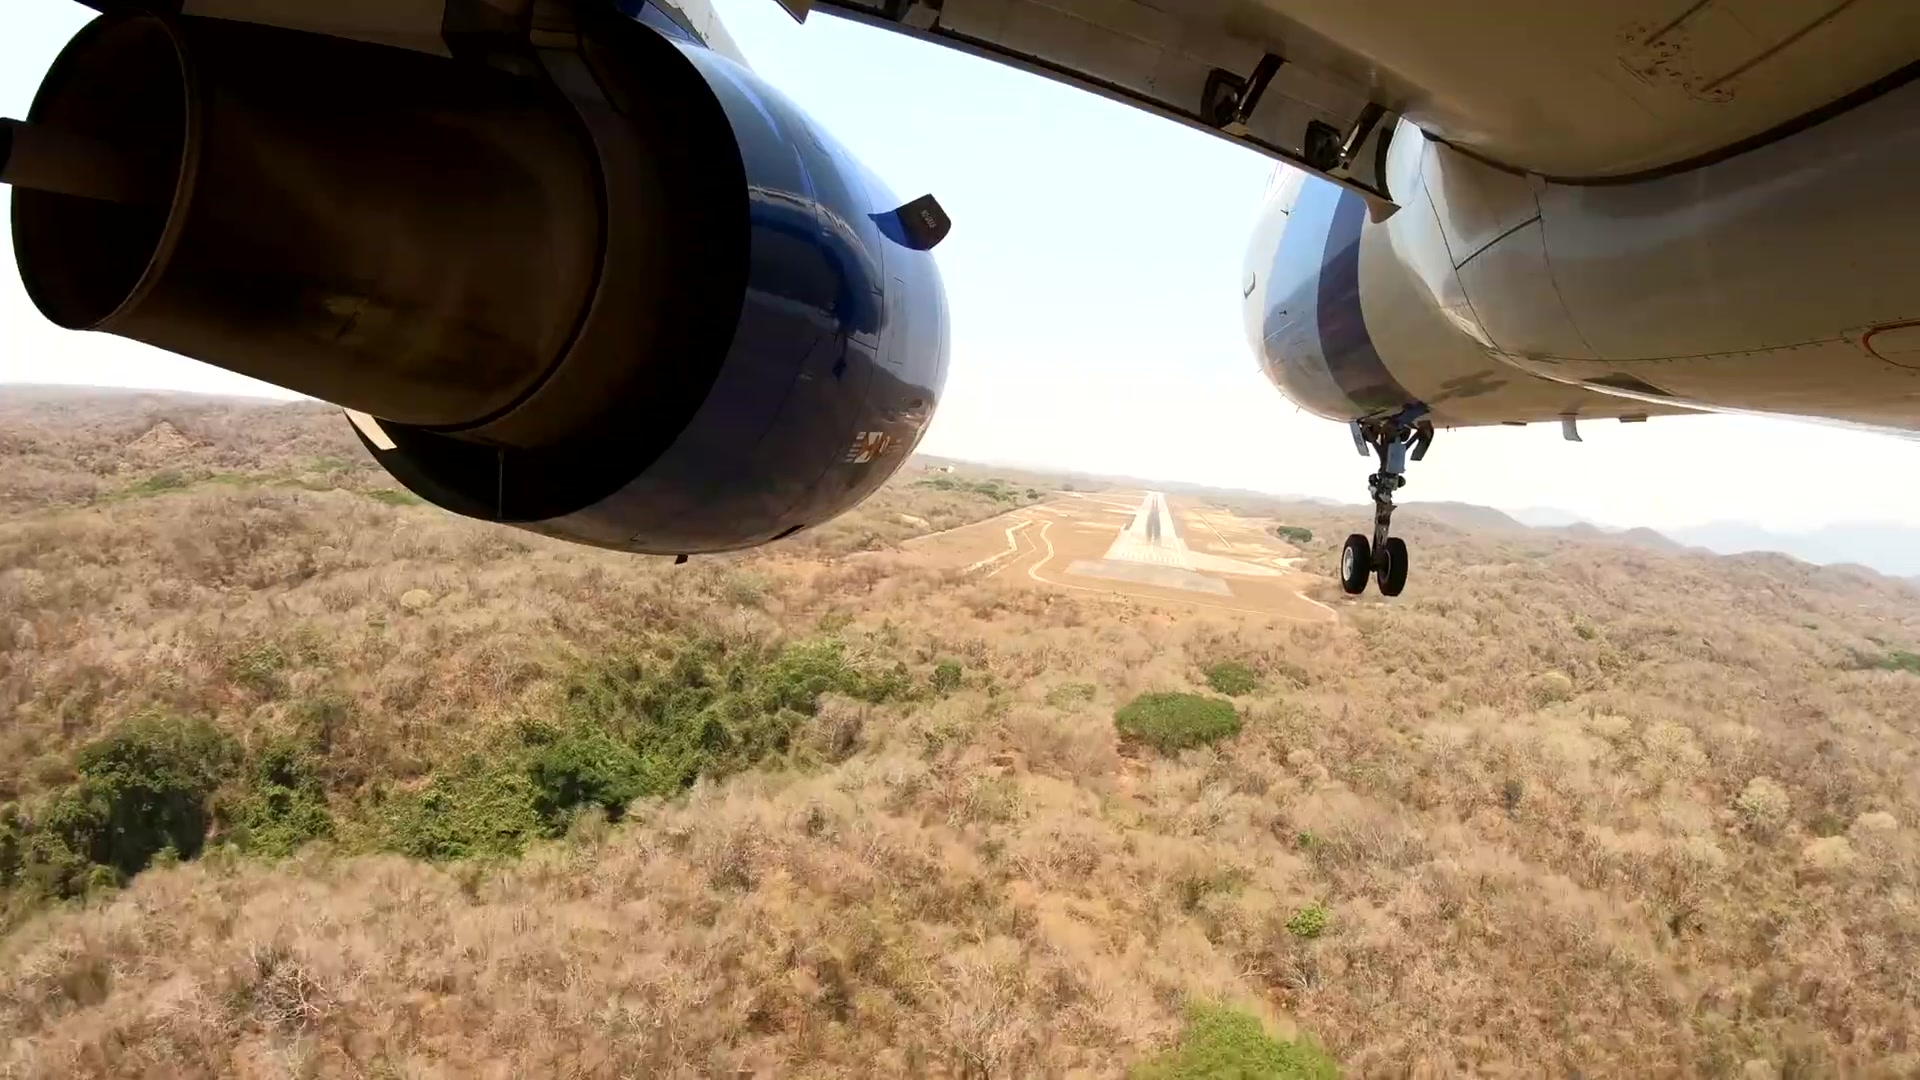entrance: (1118, 549, 1182, 566)
runway: (1116, 491, 1188, 572)
